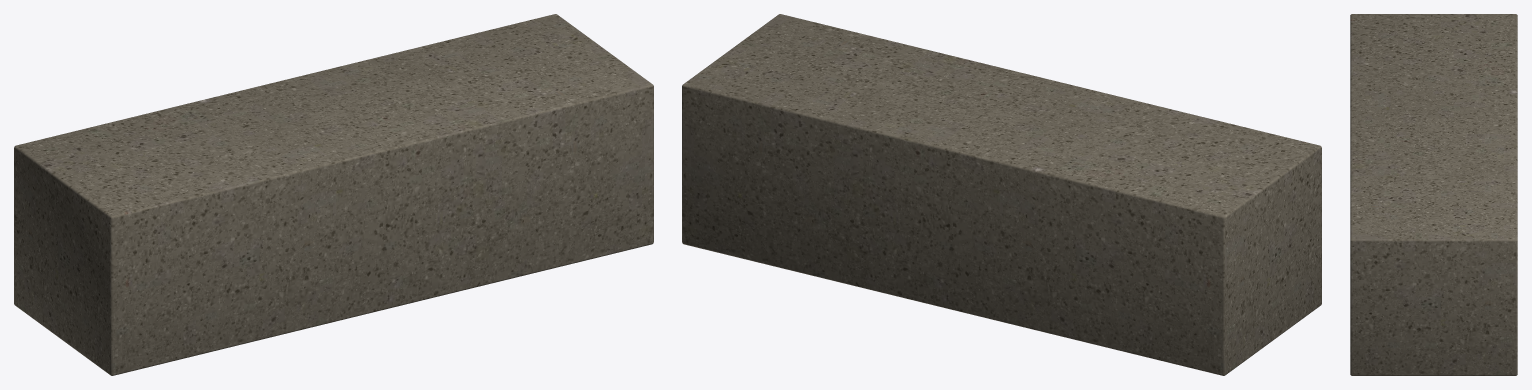
File: zubehoer.glb
3 views of the same model, side by side, from view 1: azimuth 30°, elevation 25°; view 2: azimuth 150°, elevation 25°; view 3: azimuth 270°, elevation 25° (orthographic). The views are drawn at different scales.
Visible parts, largest first — view 1: stein; view 2: stein; view 3: stein.
Part boxes in pixels (x1,y1,x2,y2): stein: (14,14,653,375); stein: (682,14,1321,375); stein: (1350,14,1517,375).
Size of the model in its own units: 1.6 by 0.4501 by 0.5001.
1 material, 1 textured.
